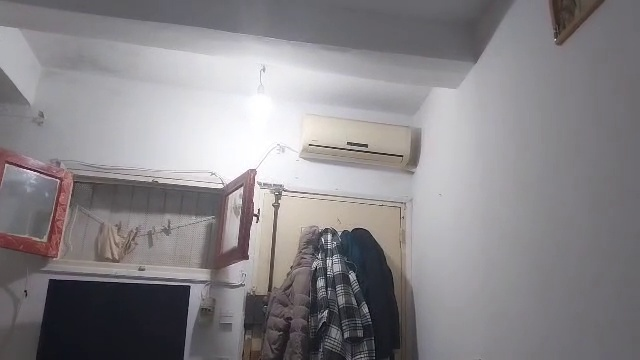air_conditioner: (295, 106, 421, 170)
